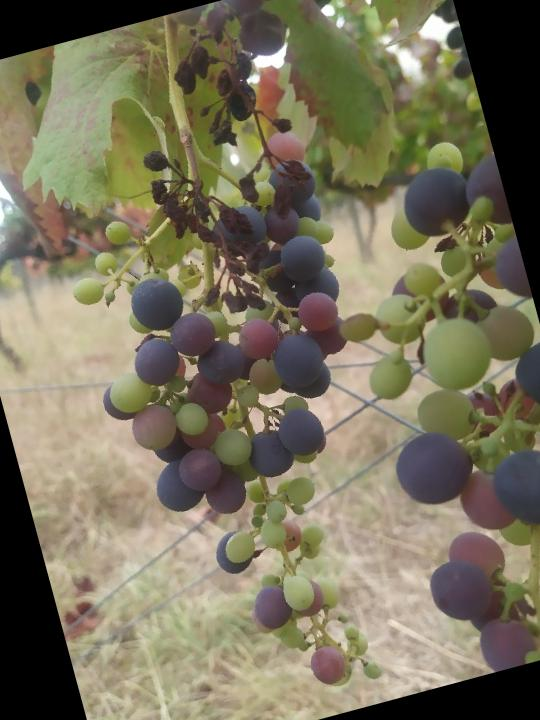grape: (42, 113, 451, 720), (156, 0, 344, 239)
